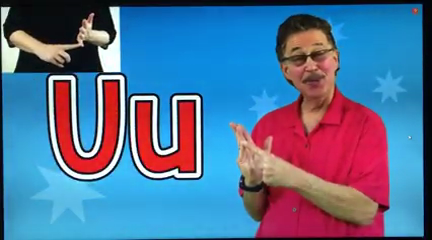U: (224, 117, 293, 199)
